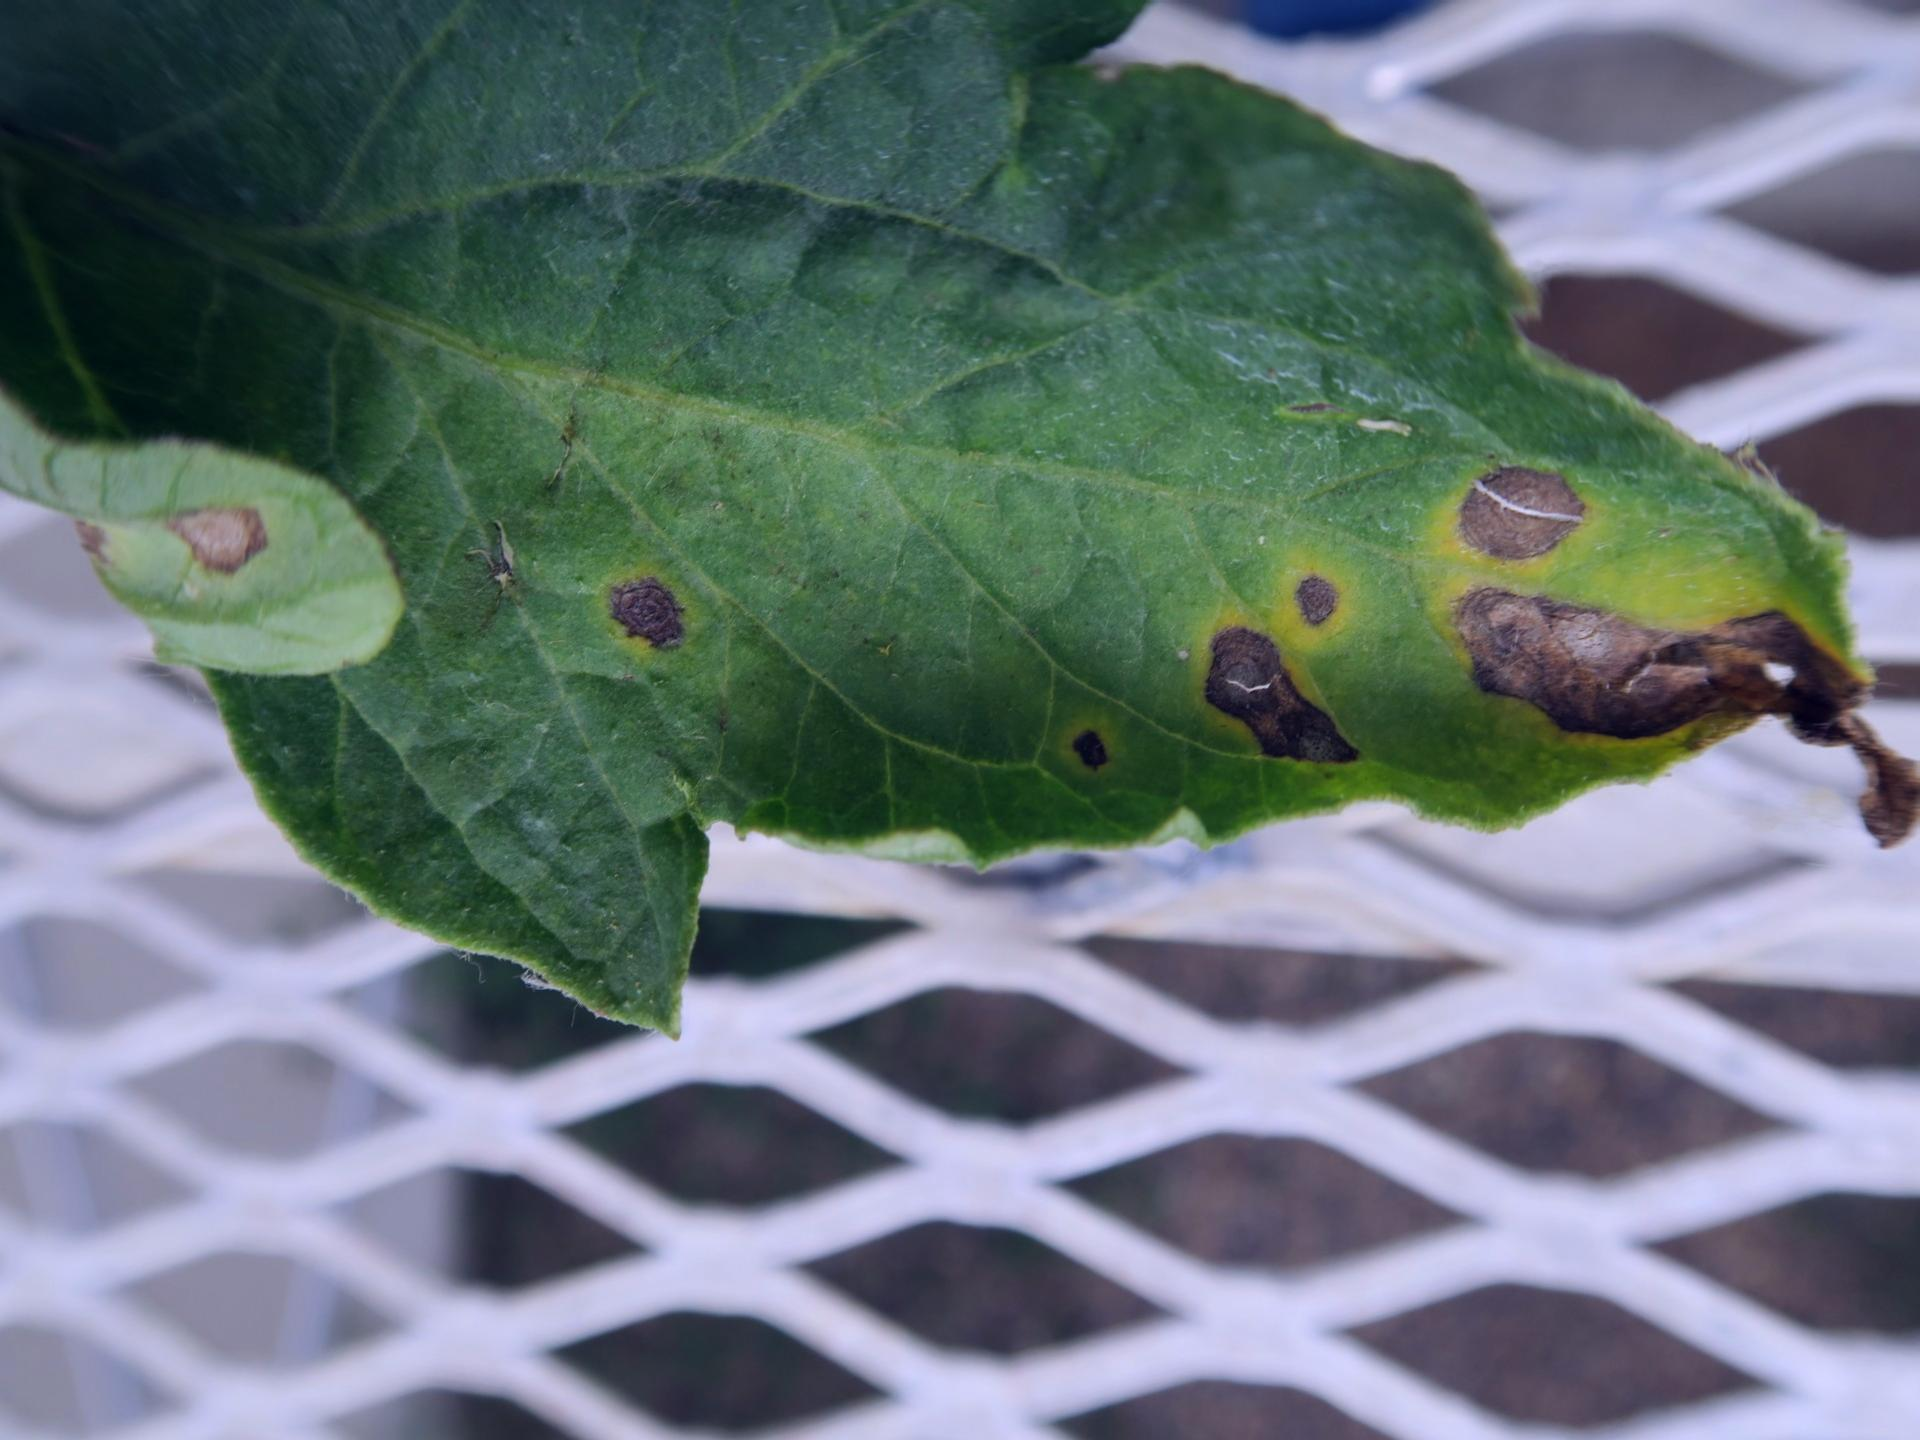Tomato Early blight leaf: (2, 39, 1837, 1016)
